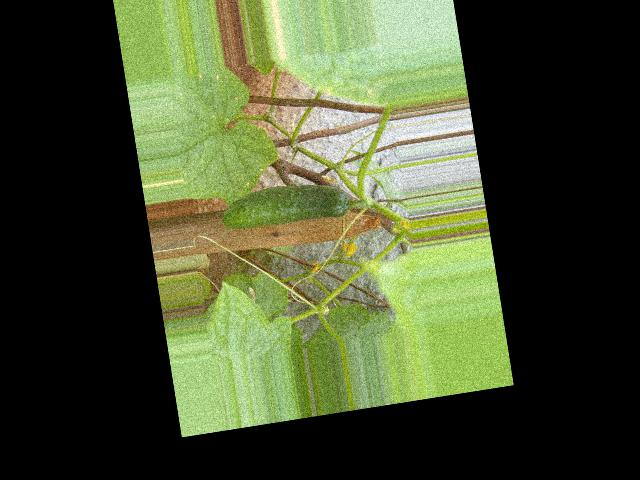cucumber: (217, 175, 352, 235)
